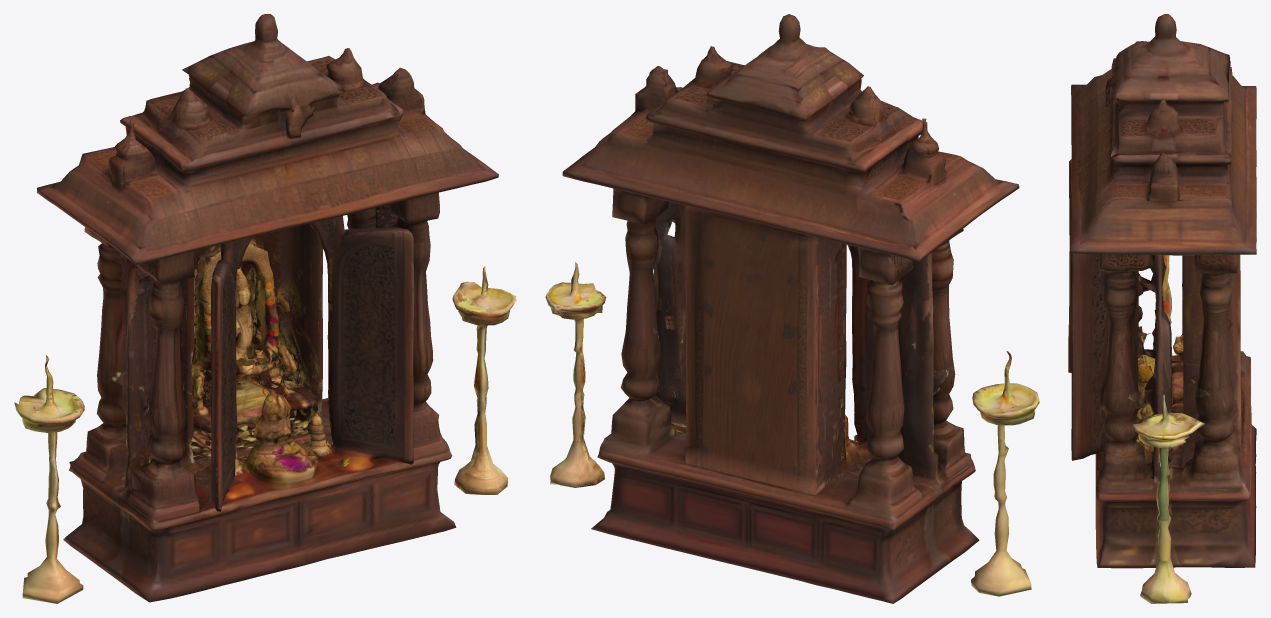
File: altar.glb
3 views of the same model, side by side, from view 1: azimuth 30°, elevation 25°; view 2: azimuth 150°, elevation 25°; view 3: azimuth 270°, elevation 25° (orthographic). The views are drawn at different scales.
Visible parts, largest first — view 1: Object_4; view 2: Object_4; view 3: Object_4.
Part boxes in pixels (<box>): Object_4: <box>14,14,516,603</box>; Object_4: <box>545,14,1039,603</box>; Object_4: <box>1068,14,1256,603</box>.
Size of the model in its own units: 1.94 by 1.98 by 0.6962.
1 material, 1 textured.
